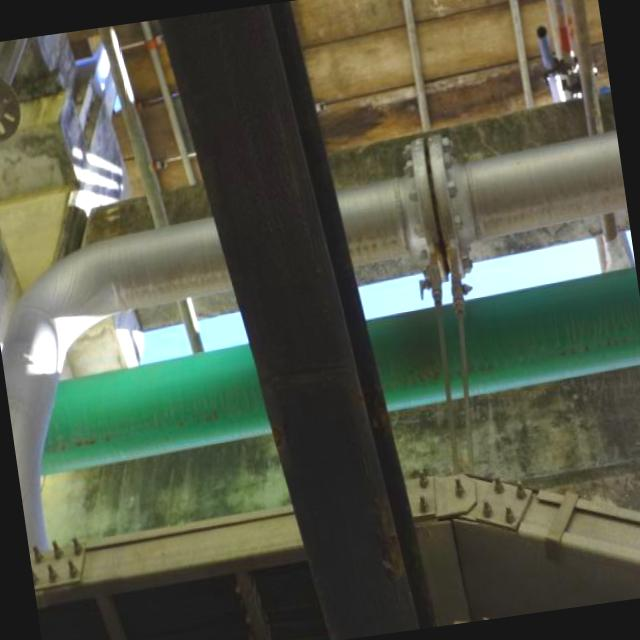gas: (2, 221, 232, 554), (365, 271, 640, 416), (336, 134, 627, 263), (40, 345, 269, 474), (0, 42, 26, 114)
